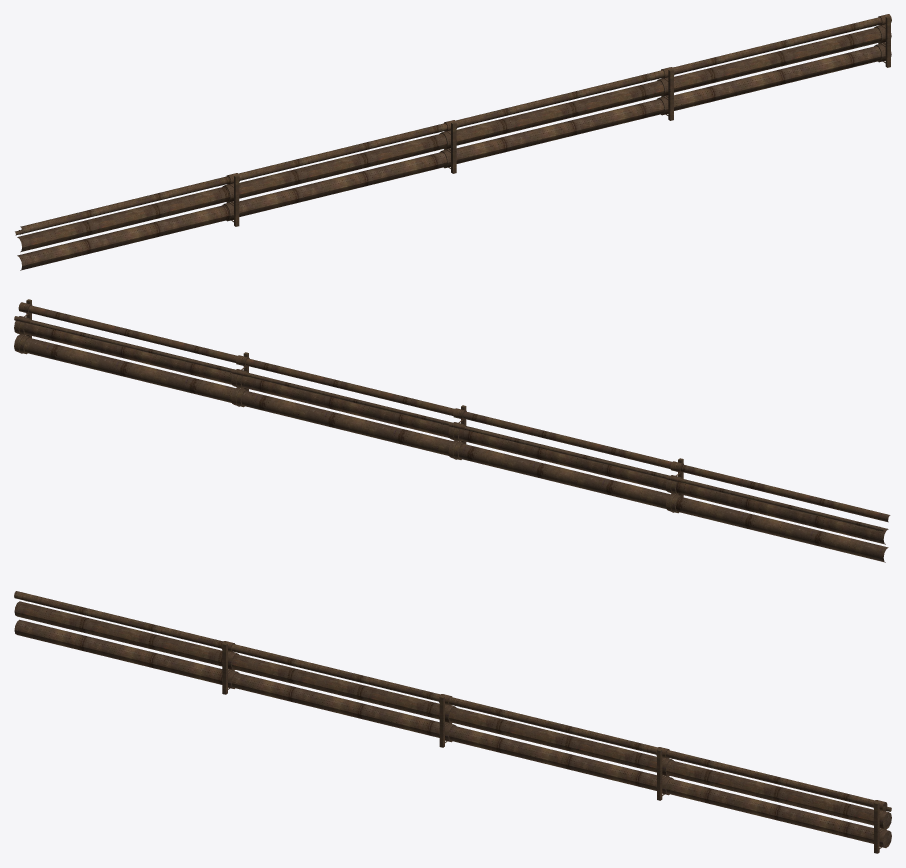
Rendered from pipeset08d_512_001a.glb.
The picture shows the model from 3 angles, top to bottom: view 1: azimuth 30°, elevation 25°; view 2: azimuth 150°, elevation 25°; view 3: azimuth 330°, elevation 25°; orthographic projection.
Parts seen in each view (by area): view 1: 0_pipeset_metal; view 2: 0_pipeset_metal; view 3: 0_pipeset_metal.
Part boxes in pixels (box(x1,y1,x2,y2)): 0_pipeset_metal: box(15, 14, 891, 270); 0_pipeset_metal: box(14, 299, 890, 562); 0_pipeset_metal: box(14, 591, 891, 853).
Size of the model in its own units: 13 by 0.7112 by 0.3048.
1 material, 1 textured.
